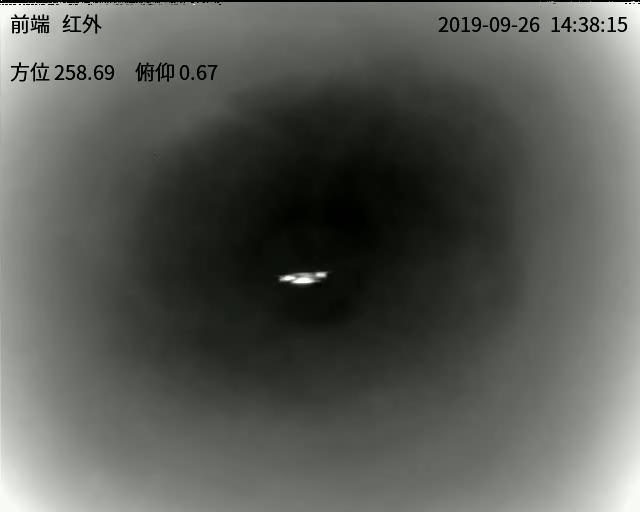uav: (272, 265, 328, 288)
